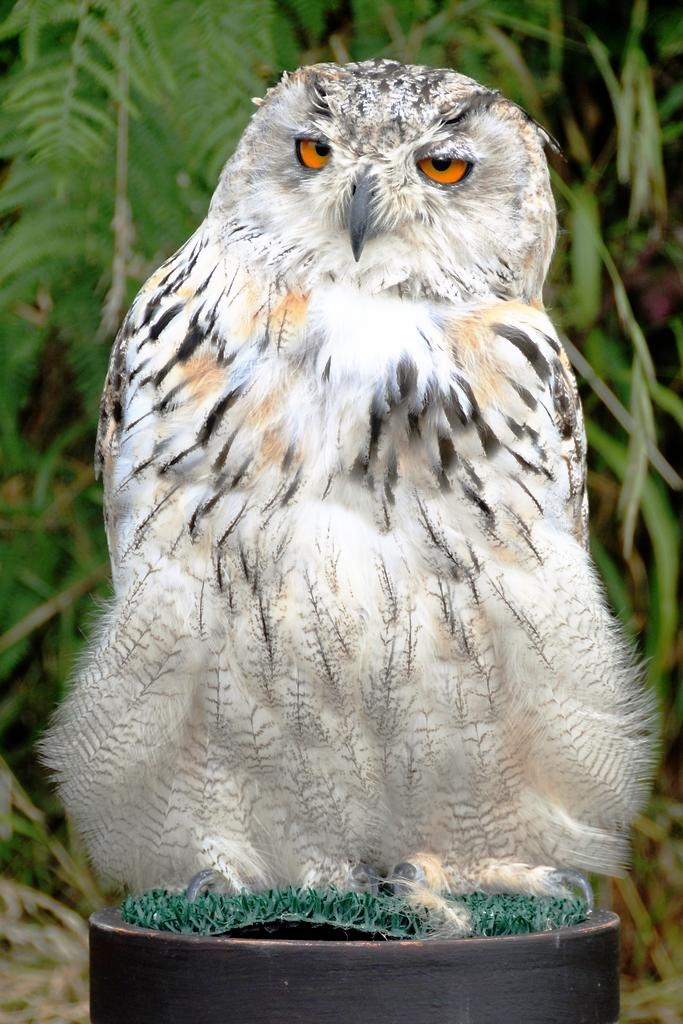Owl: (34, 54, 665, 934)
